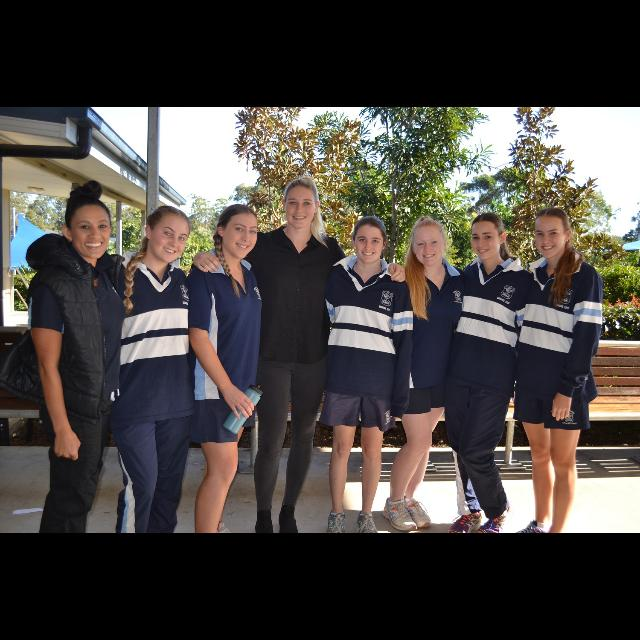head: (60, 192, 114, 260), (144, 206, 192, 264), (218, 202, 260, 262), (280, 178, 320, 230), (534, 208, 572, 260), (470, 212, 508, 262), (410, 220, 448, 268), (352, 217, 388, 265)
